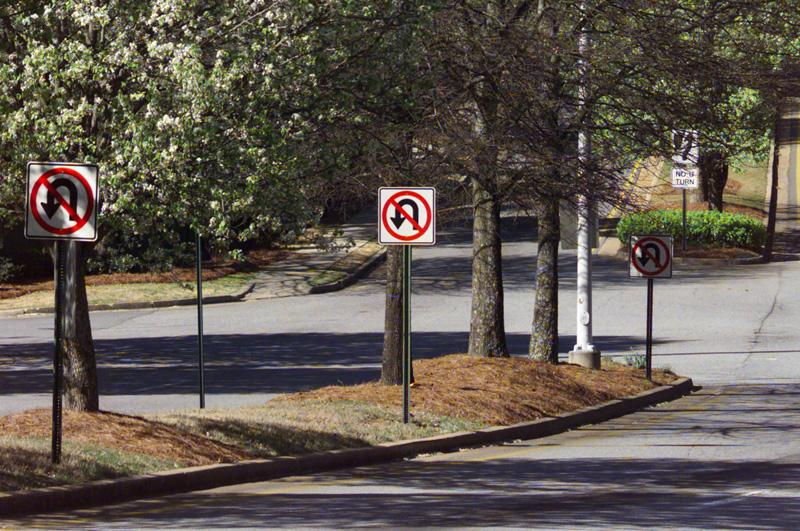no_u_turn: (29, 166, 93, 235), (381, 189, 430, 239), (630, 237, 669, 274)
